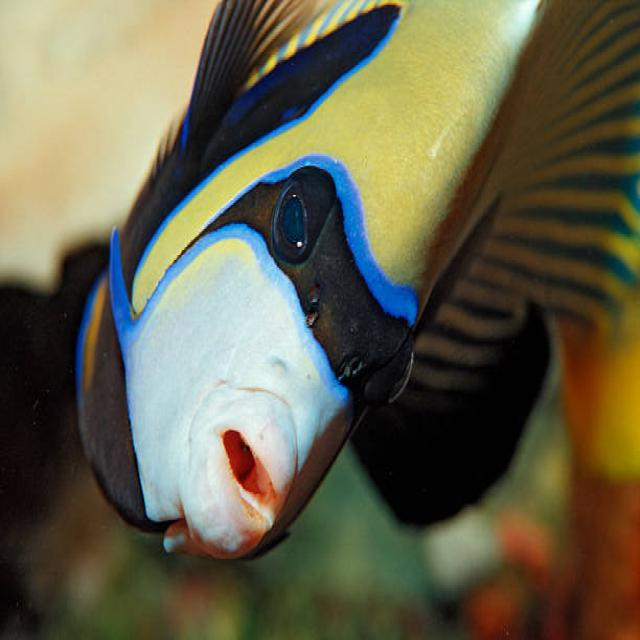AngelFish: (77, 0, 639, 557)
